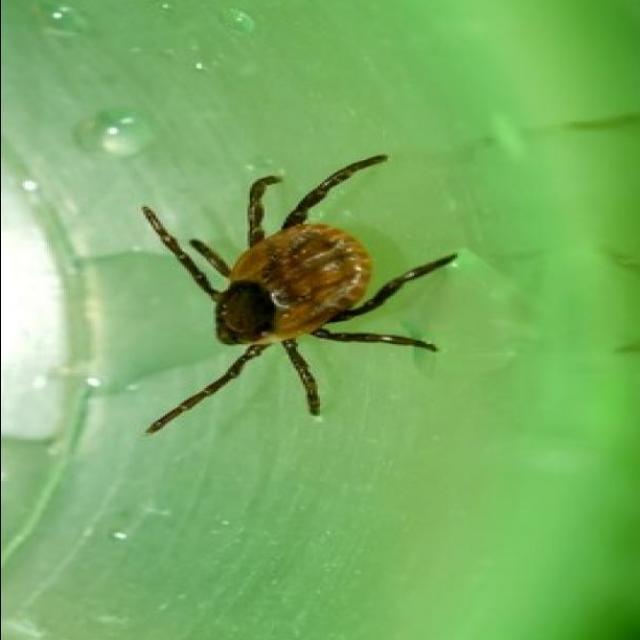Rhipicephalus Sanguineus-F: (142, 154, 457, 432)
